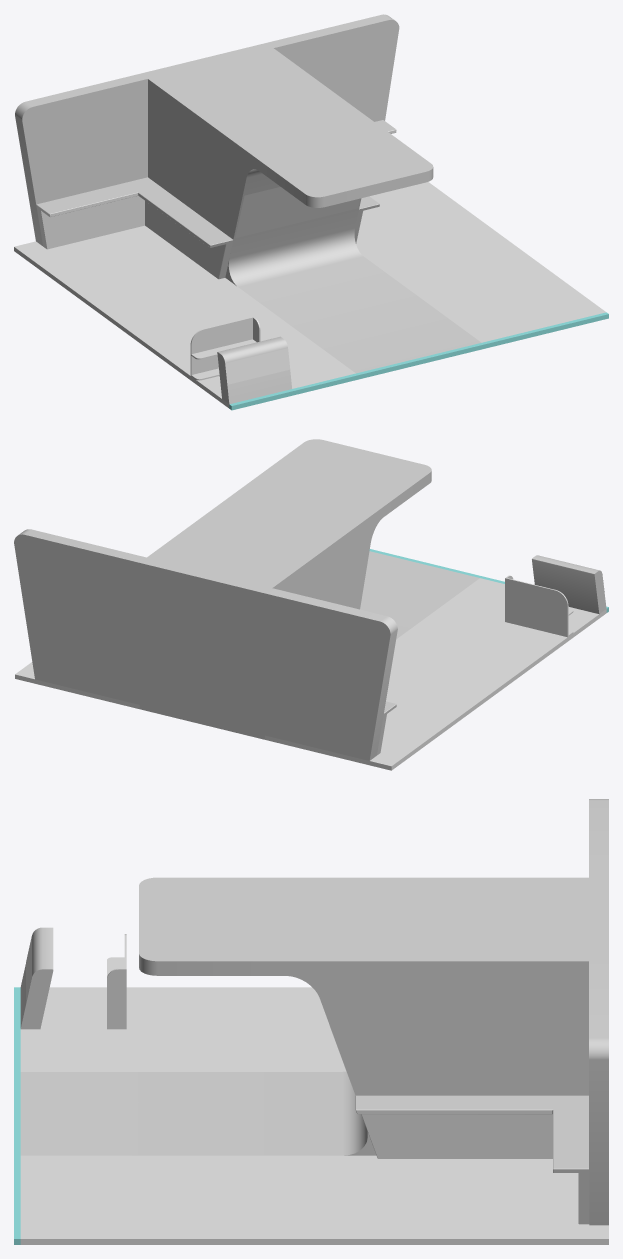
Rendered from Stand_8.fbx.
The picture shows the model from 3 angles, top to bottom: view 1: azimuth 30°, elevation 25°; view 2: azimuth 150°, elevation 25°; view 3: azimuth 270°, elevation 25°; orthographic projection. The views are drawn at different scales.
Parts seen in each view (by area): view 1: Stand_8, Stand_8_Picture, Stand_8_Table_2, Stand_8_Table_1, Stand_8_Logo_1; view 2: Stand_8, Stand_8_Table_2, Stand_8_Table_1; view 3: Stand_8, Stand_8_Table_1, Stand_8_Table_2.
Boxes of the visible parts, box(x1,y1,x2,y2) form: Stand_8: box(14, 14, 608, 410); Stand_8_Picture: box(235, 187, 359, 237); Stand_8_Table_2: box(190, 316, 260, 380); Stand_8_Table_1: box(217, 336, 292, 404); Stand_8_Logo_1: box(225, 348, 290, 384); Stand_8: box(14, 439, 608, 770); Stand_8_Table_2: box(505, 575, 573, 637); Stand_8_Table_1: box(532, 555, 606, 613); Stand_8: box(14, 799, 608, 1244); Stand_8_Table_1: box(20, 927, 53, 1029); Stand_8_Table_2: box(107, 934, 126, 1029).
Size of the model in its own units: 902 by 334 by 900.
